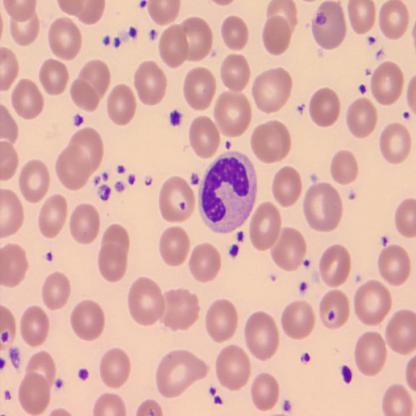Band Neutrophil: (196, 148, 258, 236)
